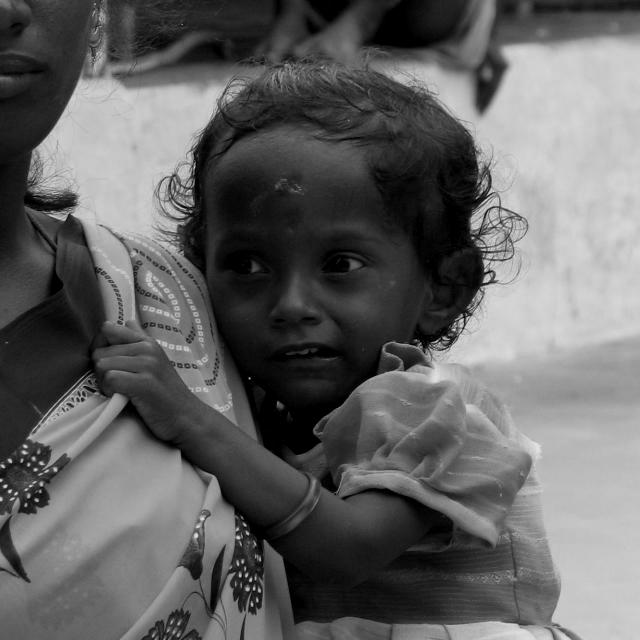real: (202, 138, 428, 409), (218, 227, 378, 294)
